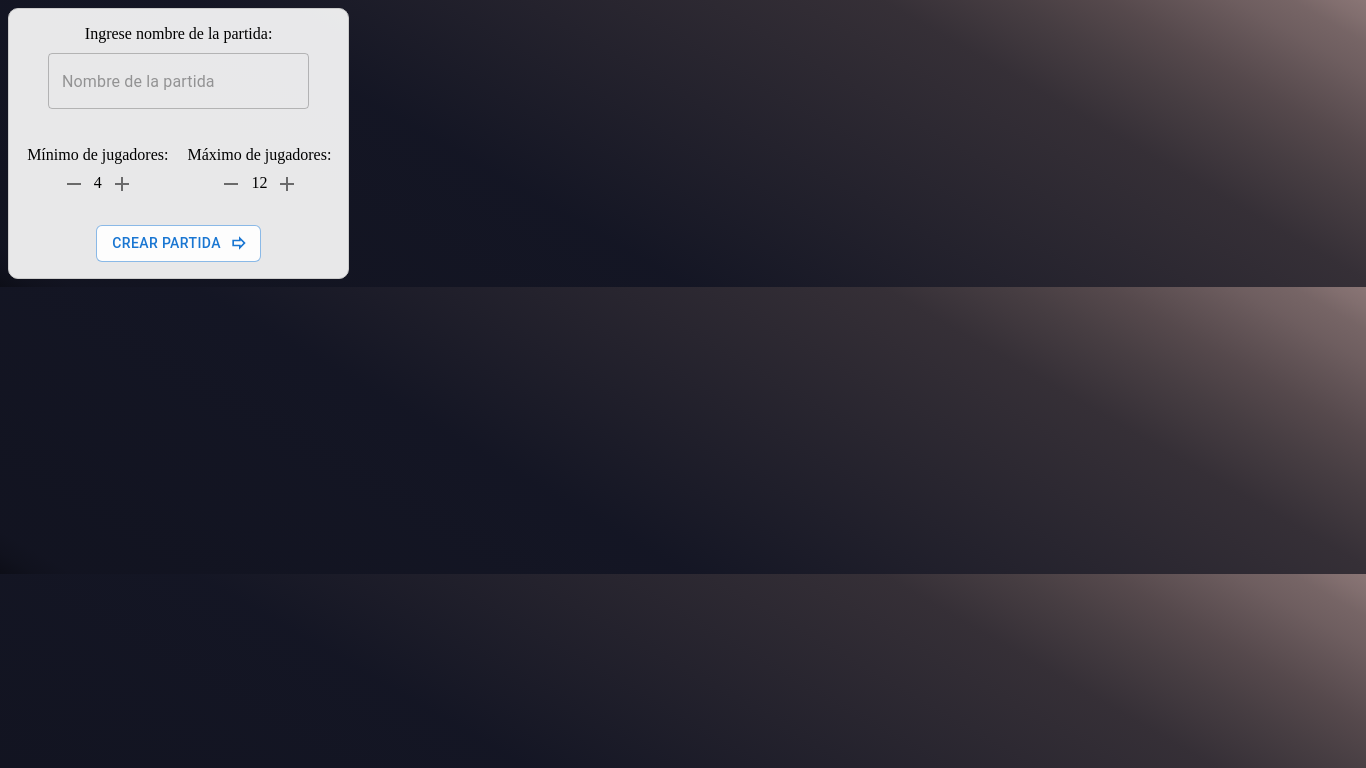
Test: FormPartida › debería actualizar minPlayers y maxPlayers correctamente
Expected: the text "4" is shown, [54,164,142,204]
Expected: the text "12" is shown, [211,164,307,204]
Click the button named "maxPlayersDecrease".
click(231, 184)  # box [211,164,251,204]
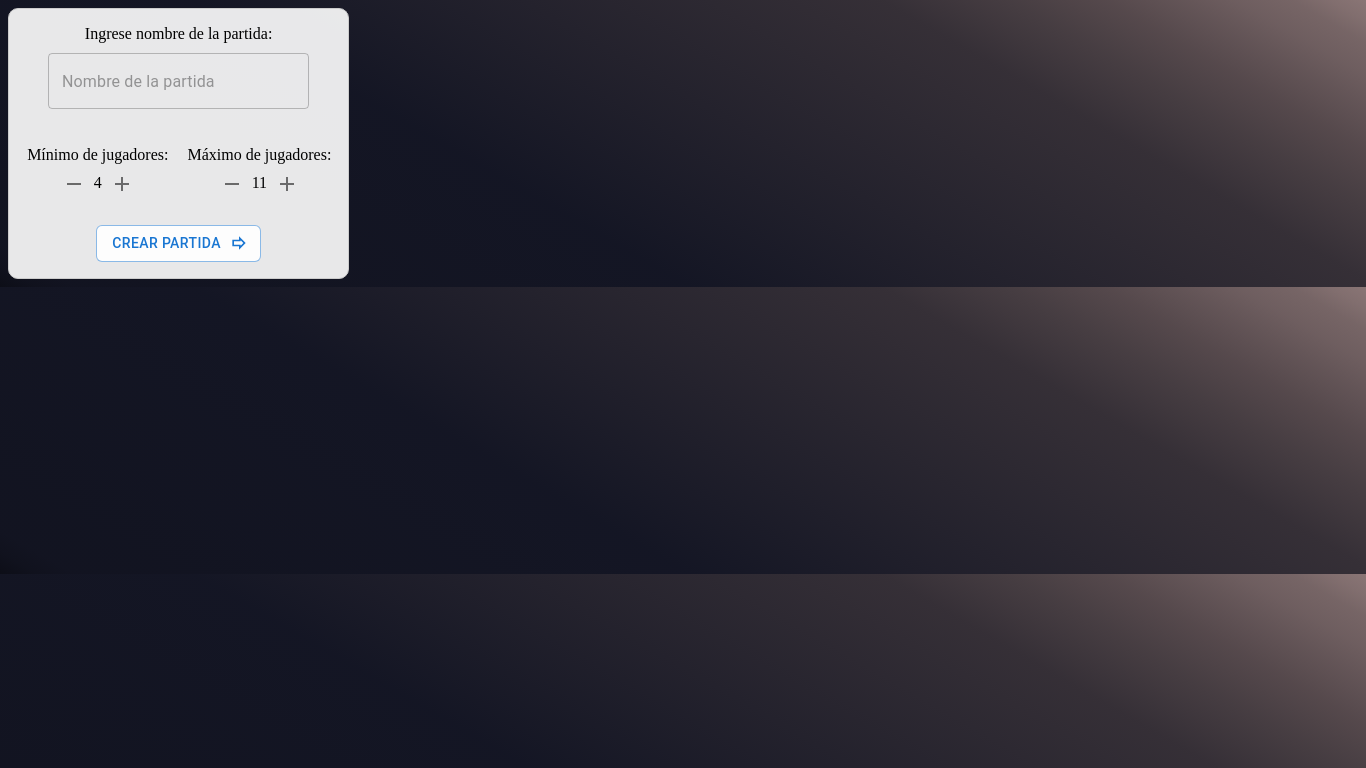
Click the button named "minPlayersIncrease".
click(122, 184)  # box [102,164,142,204]
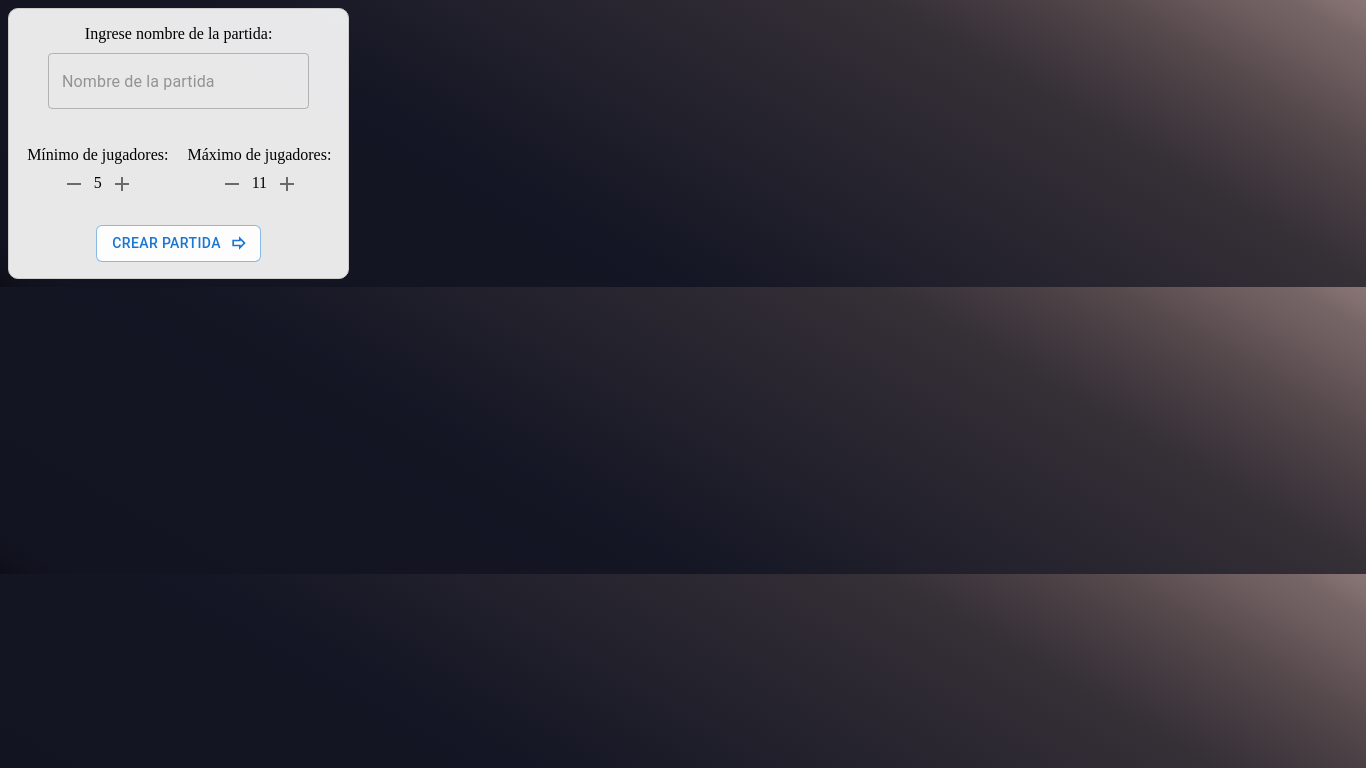
Expected: the text "11" is shown, [212,164,307,204]
Expected: the text "5" is shown, [54,164,142,204]
Click the button named "minPlayersDecrease".
click(74, 184)  # box [54,164,94,204]
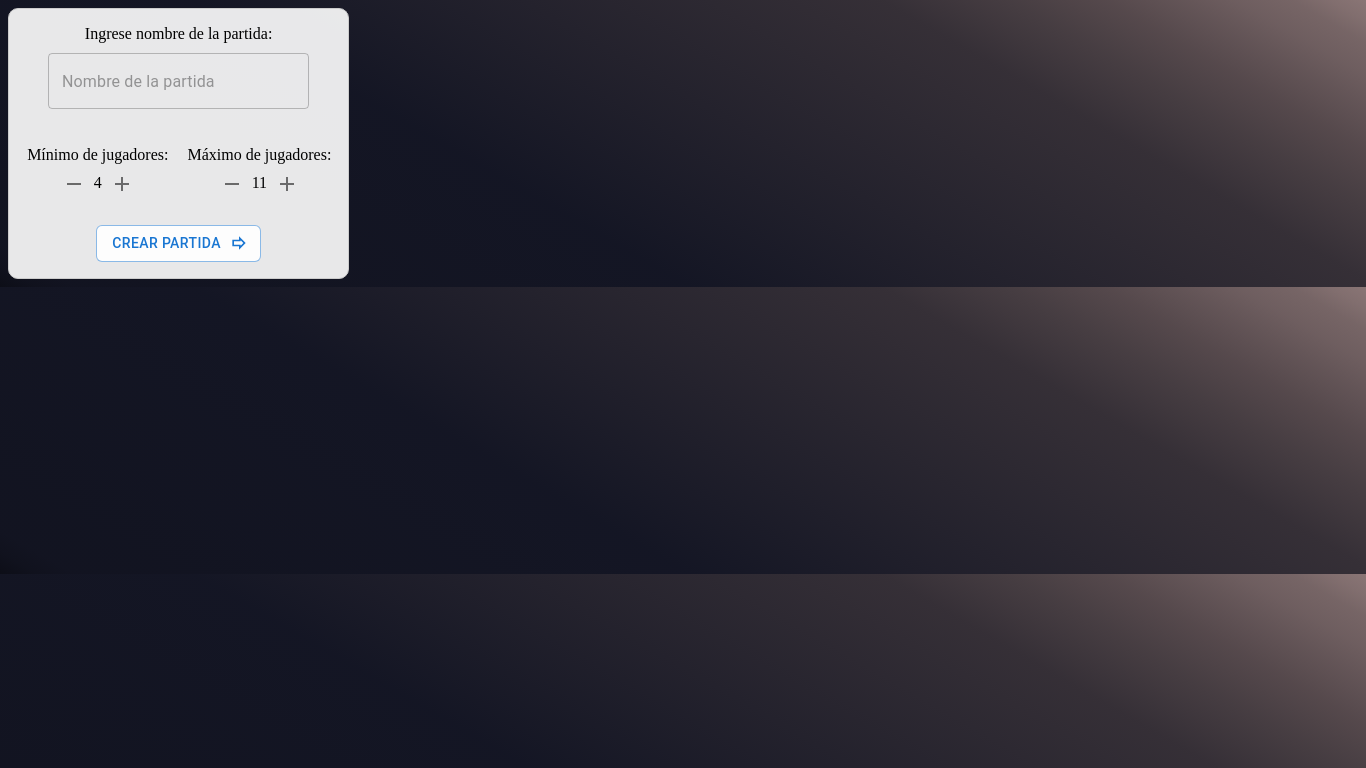
Click the button named "maxPlayersIncrease".
click(287, 184)  # box [267,164,307,204]
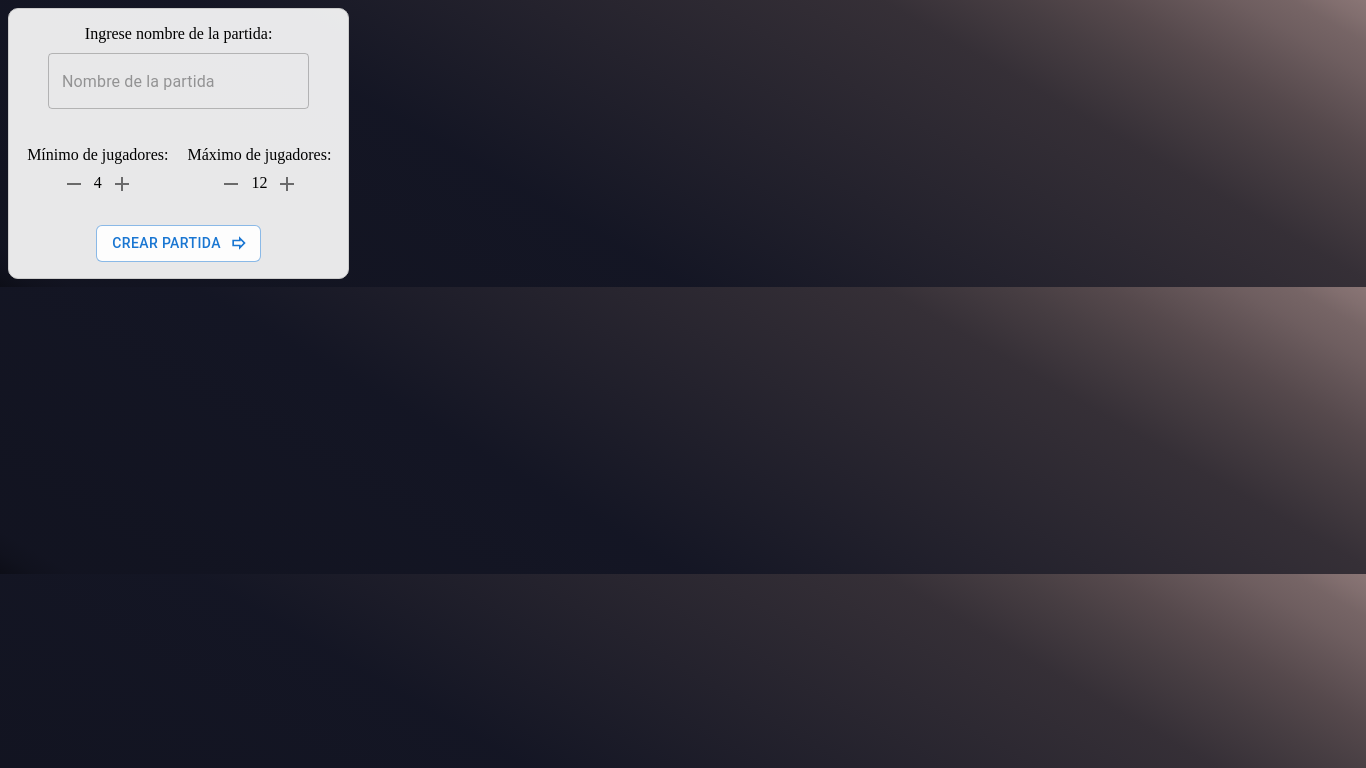
Expected: the text "4" is shown, [54,164,142,204]
Expected: the text "12" is shown, [211,164,307,204]
